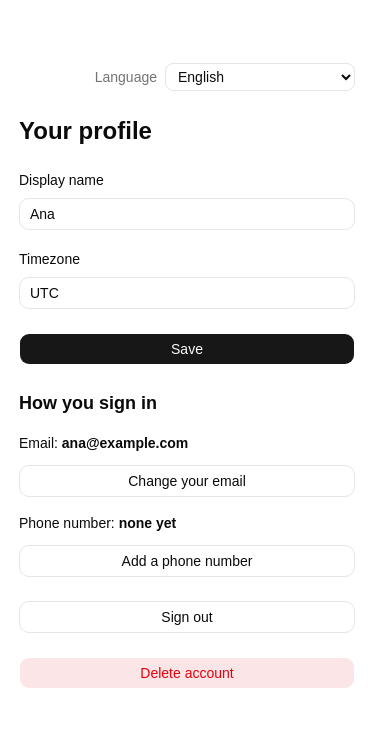
the contact form › changes the email with a code sent to the new address
This screenshot has width=375, height=734.
Click the button "Change your email": click(187, 481) [19,465,355,497]
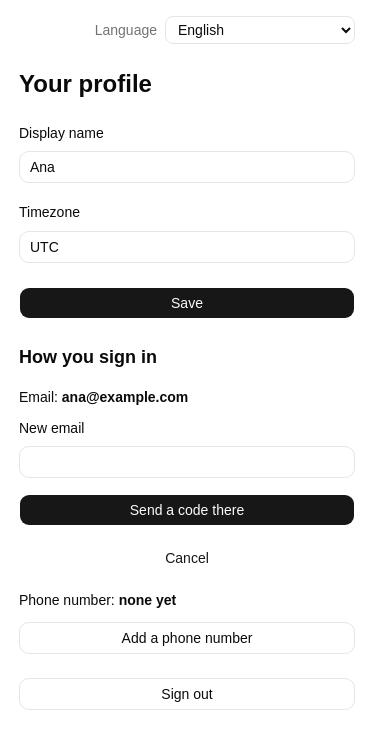
In the field labelled "New email": (187, 462) [19,446,355,478], type "new@example.com"
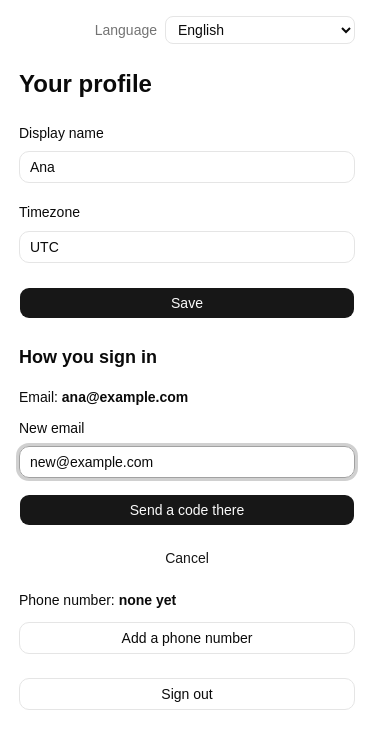
Click the button "Send a code there": click(187, 510) [19,494,355,526]
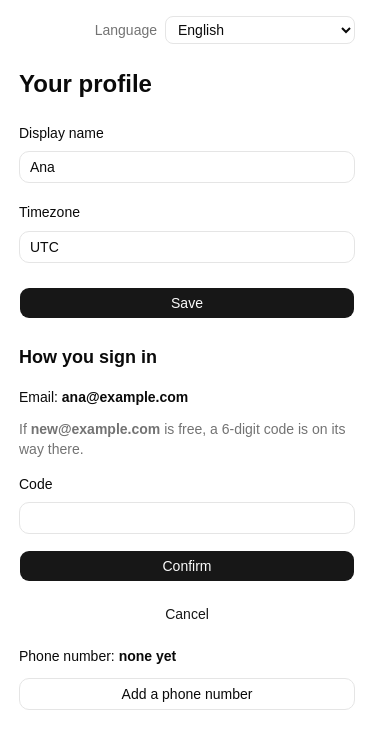
In the field labelled "Code": (187, 518) [19,502,355,534], type "123456"
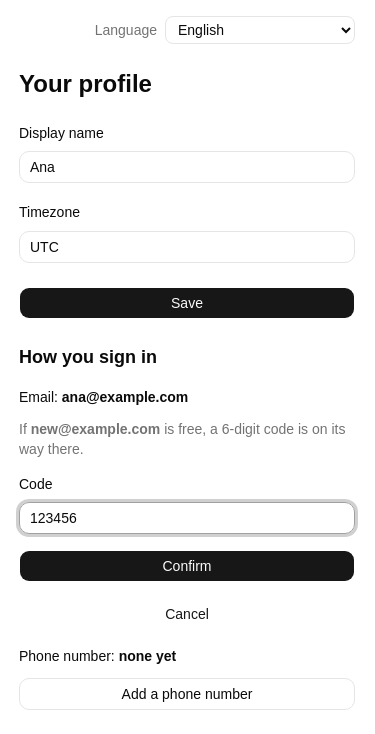
Click the button "Confirm": click(187, 566) [19,550,355,582]
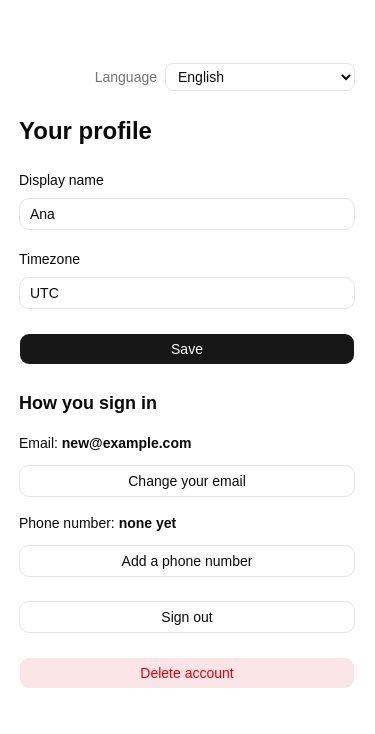
Now the text "new@example.com" is shown, box [62,435,191,451]
